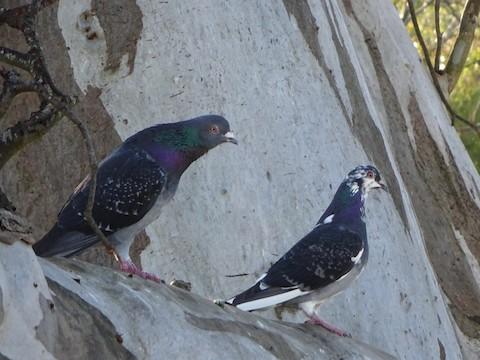pigeon: (25, 109, 243, 286), (218, 162, 395, 338)
